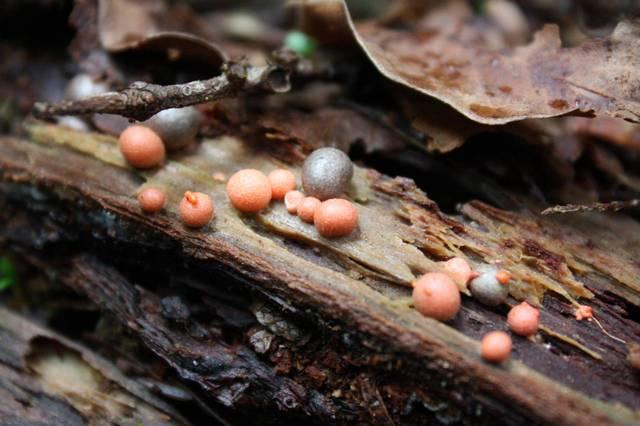poisonous_mushroom: (300, 145, 353, 199), (410, 271, 461, 320), (117, 123, 166, 168), (225, 167, 272, 212), (312, 197, 357, 238), (468, 268, 511, 306), (178, 189, 214, 227), (479, 329, 512, 362), (137, 186, 165, 212)
